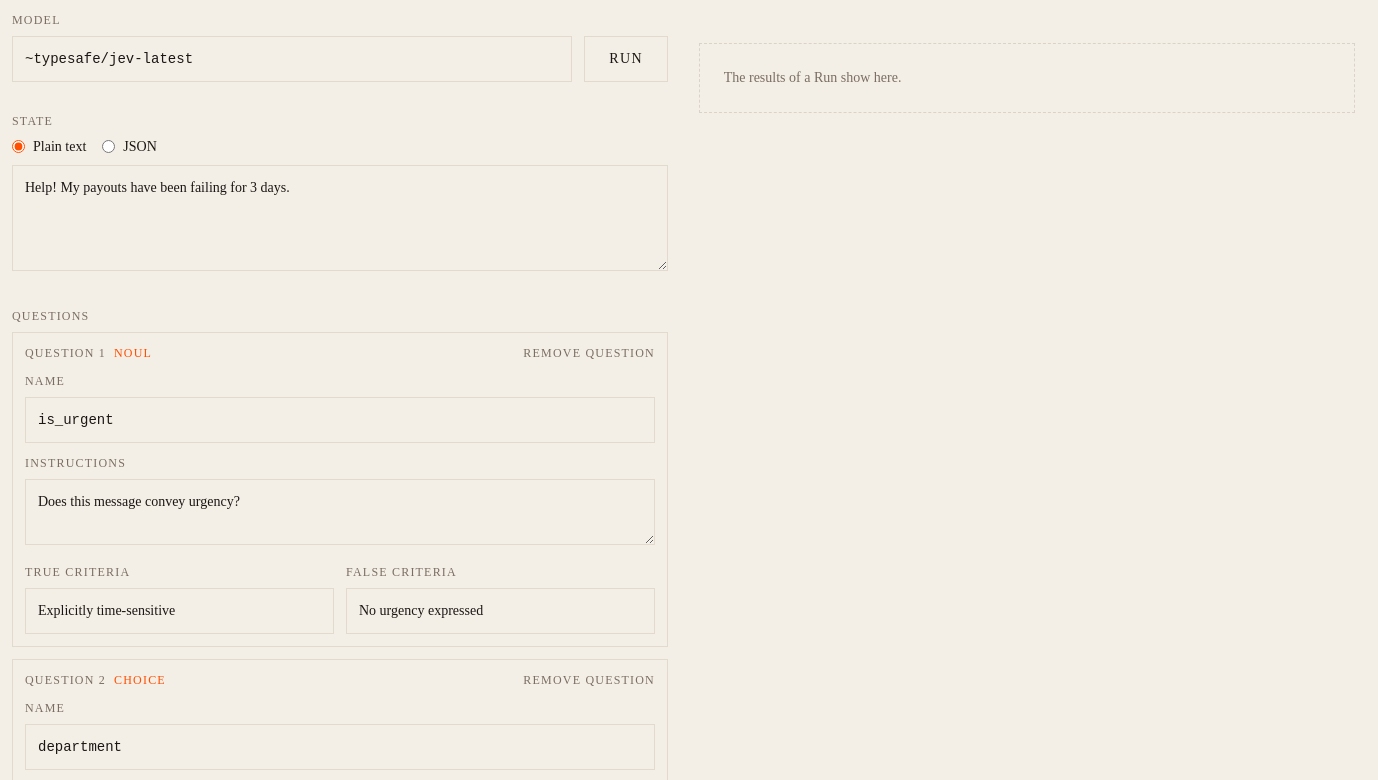
Options panel › says that the cost was not reported when the response has no cost
Click the button "Run": (626, 59) [584, 36, 668, 82]
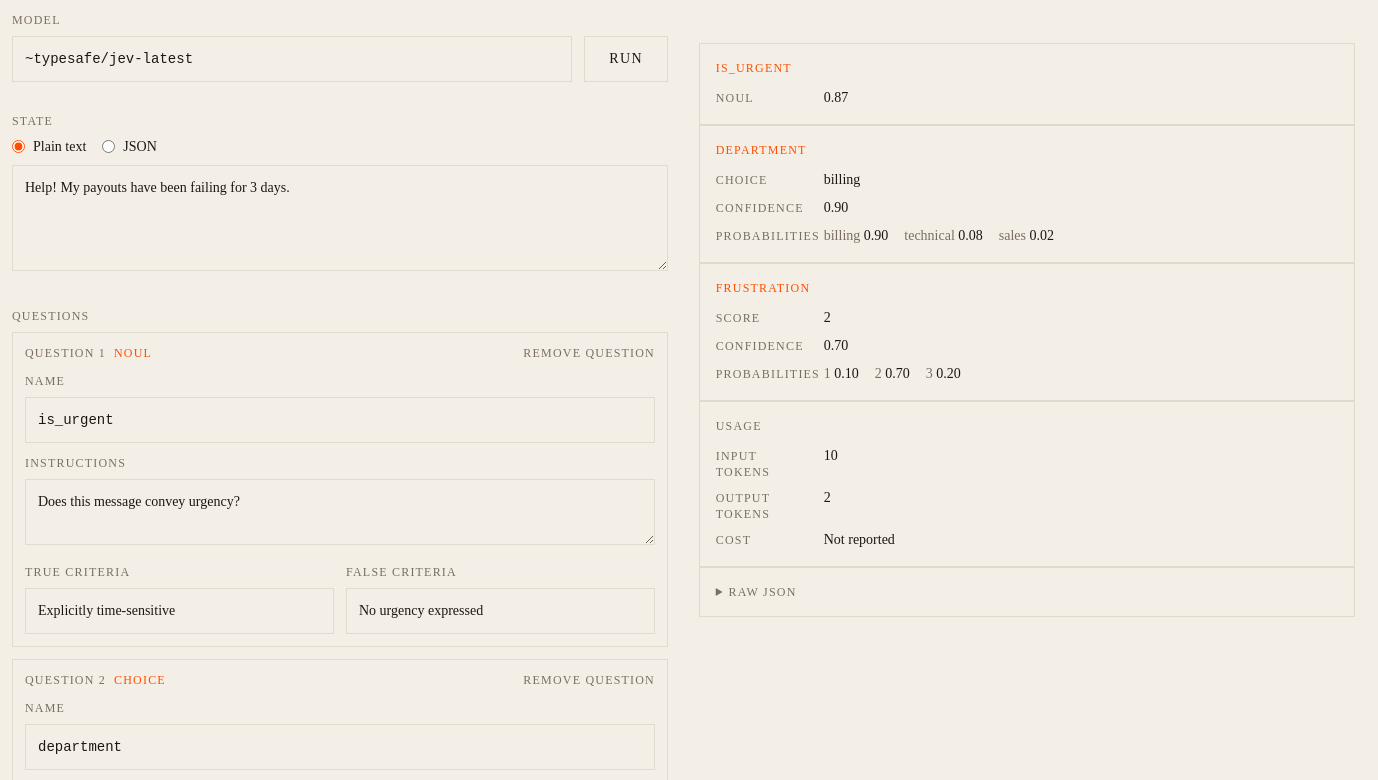
Check: the element "Usage Input tokens 10 Output tokens 2 Cost Not reported" is shown, box [699, 401, 1355, 567]
